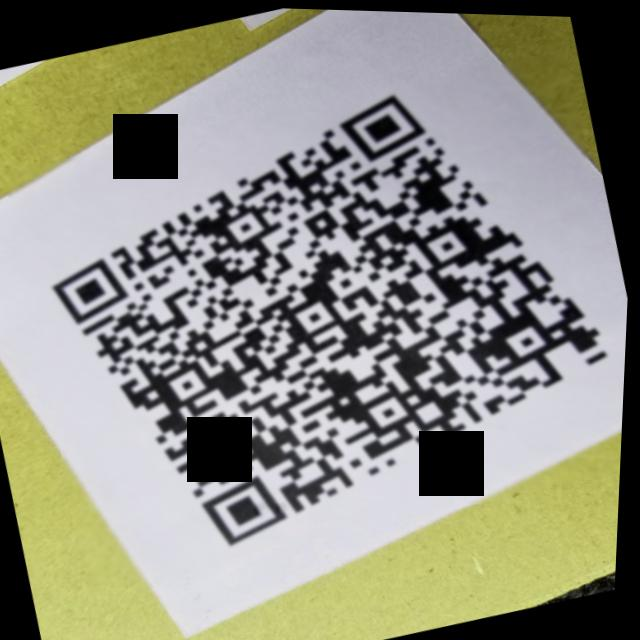QR_CODE: (0, 32, 639, 599)
